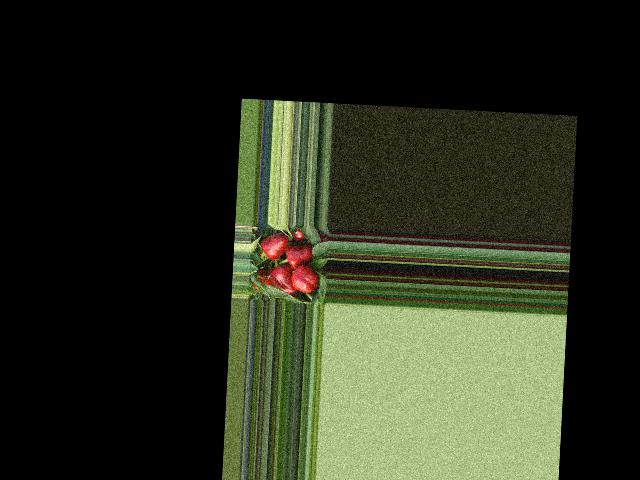bell_pepper: (290, 257, 318, 296)
